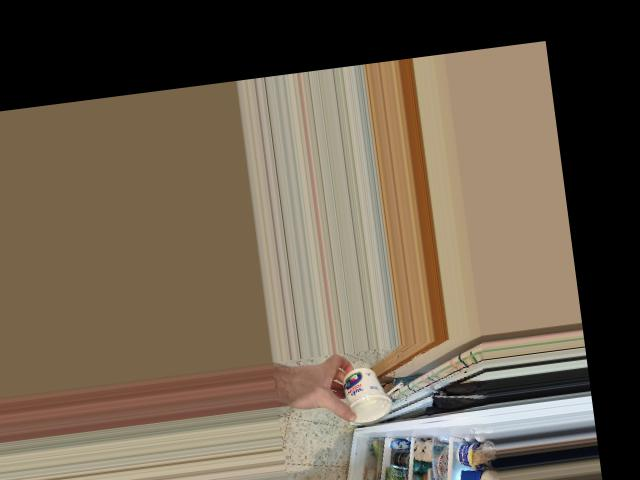cotage: (333, 362, 395, 428)
